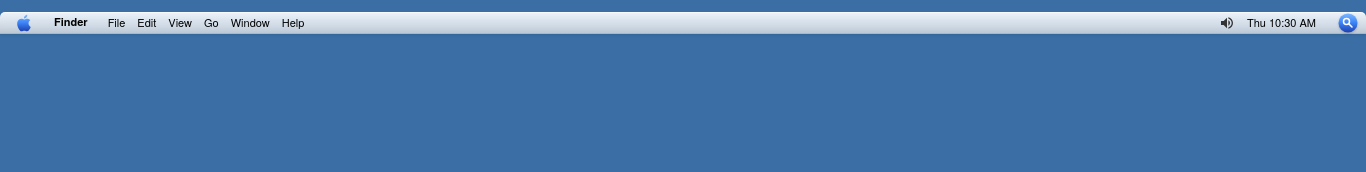
it: MenuBar › Application Menu Dropdowns › opens Help menu dropdown when clicked
Click the button with test id "menu-help" at [293, 23], box [276,12,310,33]
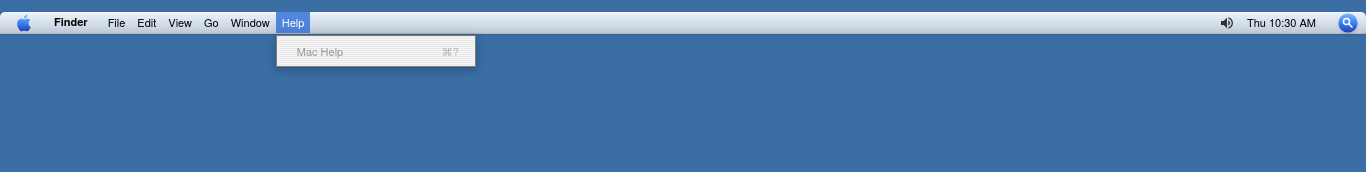
Check: the menu with test id "help-menu-dropdown" is shown, box [276,35,476,67]
